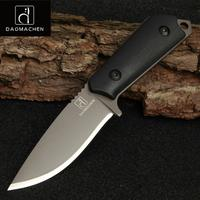knife: (3, 17, 181, 196)
